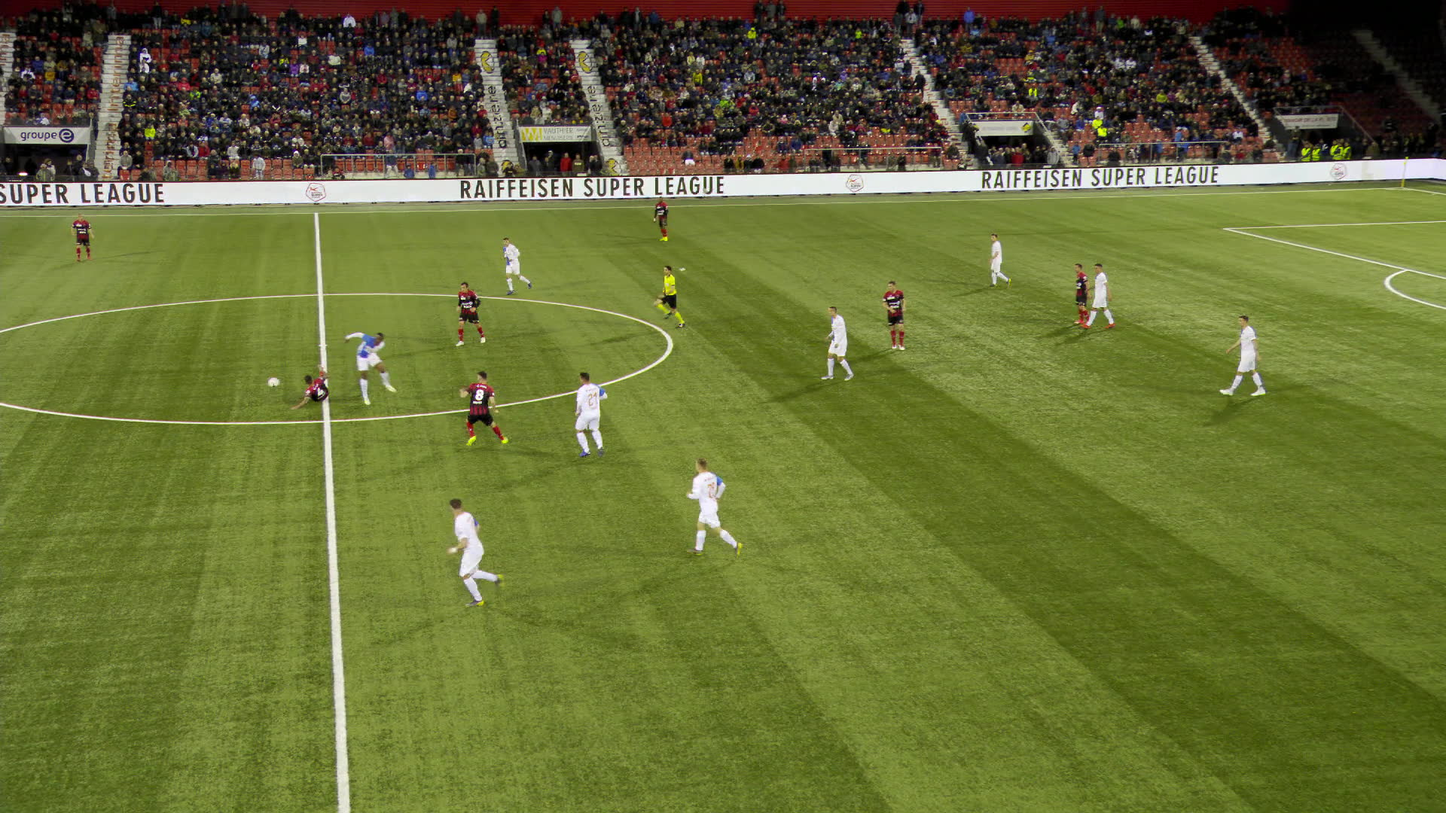ball: (267, 377, 278, 386)
player: (448, 496, 500, 603), (688, 461, 744, 557), (341, 327, 395, 403), (455, 371, 505, 449), (572, 375, 607, 460), (1225, 315, 1261, 397), (821, 306, 851, 382), (1082, 263, 1112, 329), (456, 280, 485, 345), (290, 367, 331, 411), (880, 282, 904, 350), (502, 239, 529, 294), (987, 233, 1007, 287), (70, 214, 92, 263), (1071, 265, 1088, 325), (651, 197, 668, 241)
referee: (654, 264, 688, 328)
